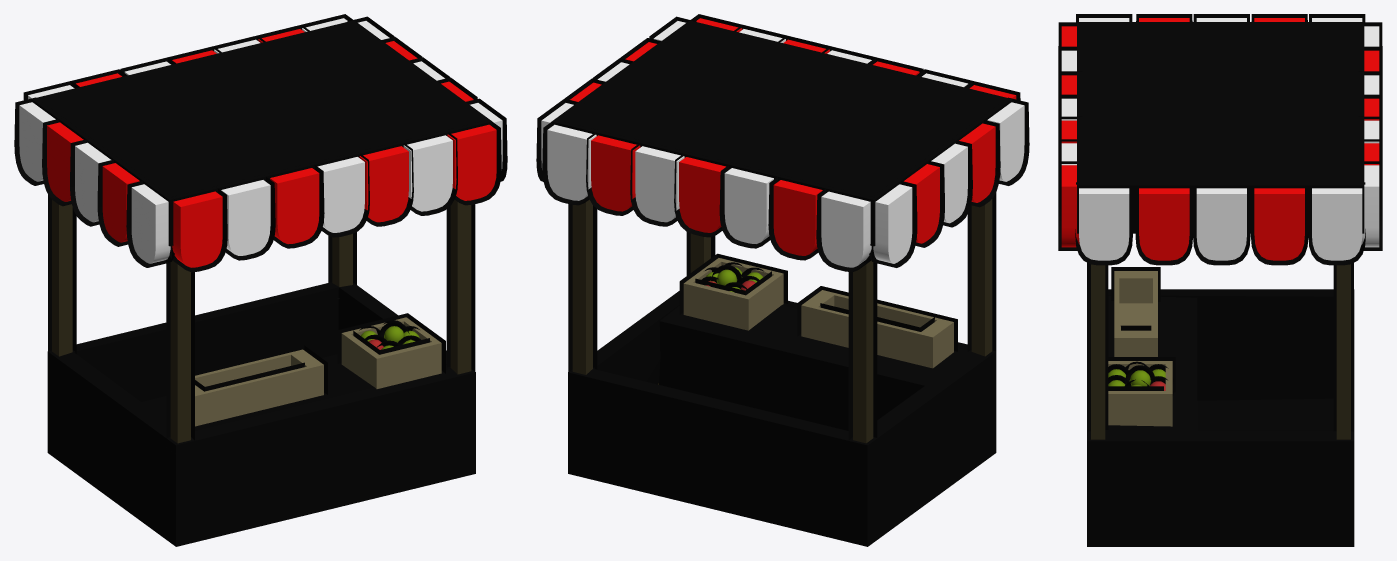
File: Stall 1.FBX
3 views of the same model, side by side, from view 1: azimuth 30°, elevation 25°; view 2: azimuth 150°, elevation 25°; view 3: azimuth 270°, elevation 25° (orthographic). The views are drawn at different scales.
Parts seen in each view (by area): view 1: Stand 1; view 2: Stand 1; view 3: Stand 1.
Part boxes in pixels (box(x1,y1,x2,y2)): Stand 1: box(14, 14, 507, 546); Stand 1: box(536, 14, 1029, 546); Stand 1: box(1058, 14, 1382, 546).
Size of the model in its own units: 32.05 by 30.6 by 24.52.
